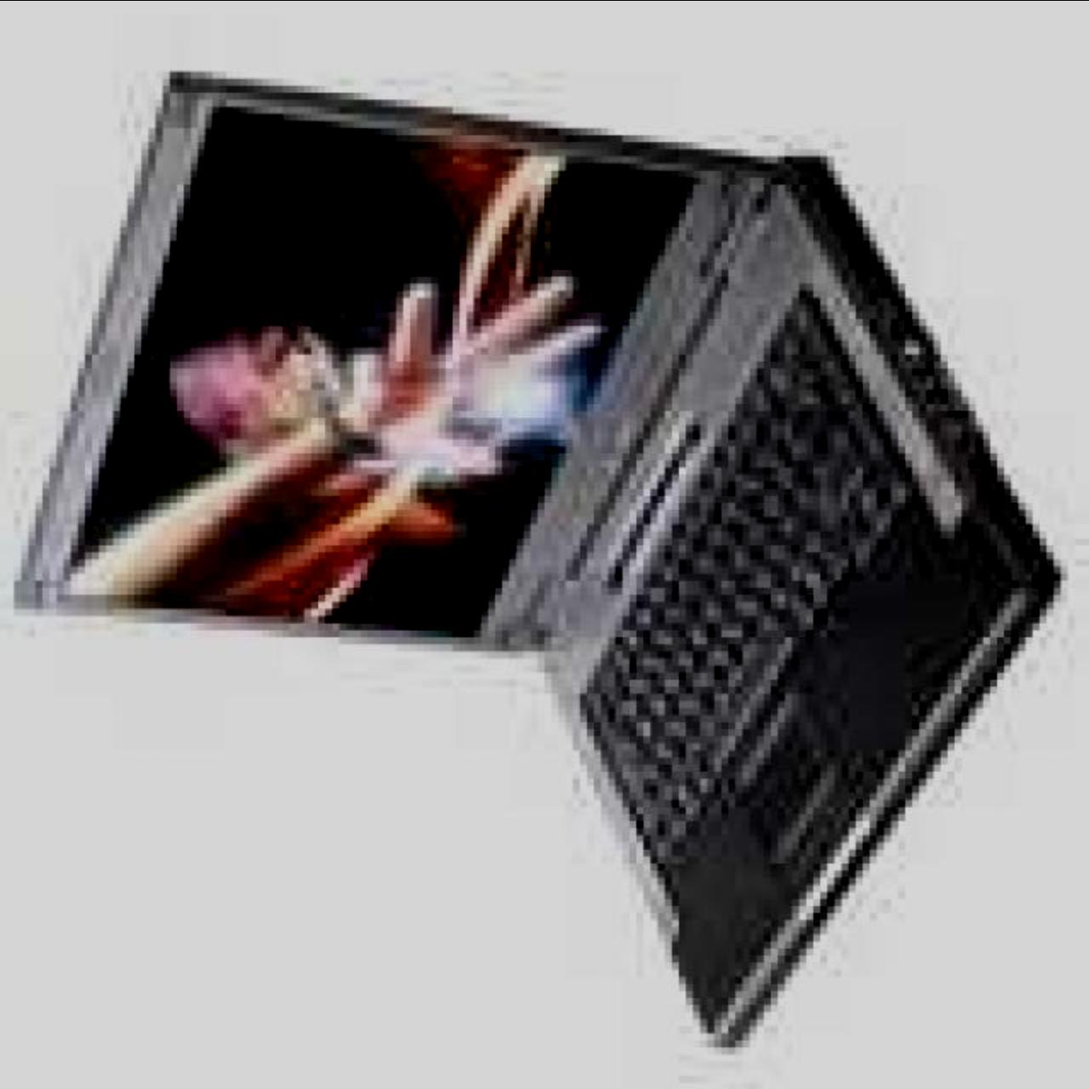laptop: (30, 92, 1025, 1001)
